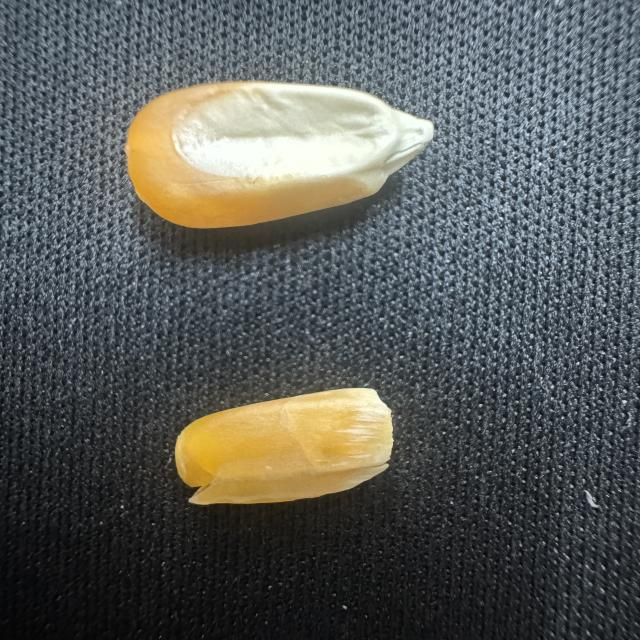Bad-Seed: (170, 376, 414, 516)
Good-Seed: (119, 72, 451, 236)
